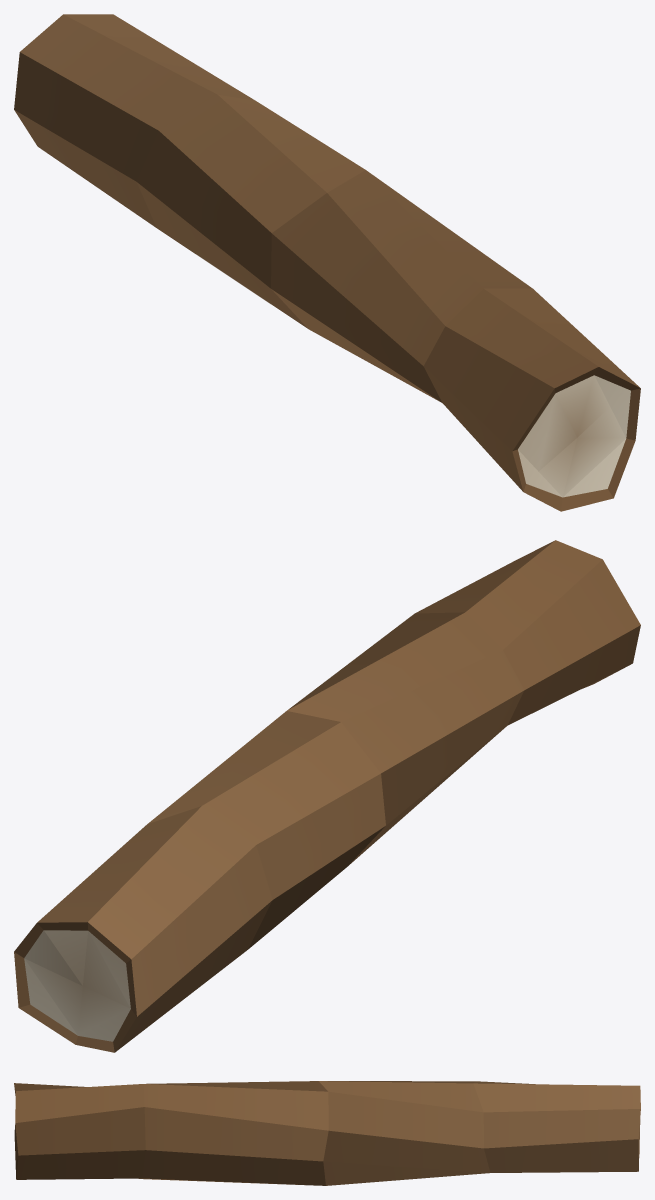
The model's file is Log_Straight_01.fbx.
3 views of the same model, one above another, from view 1: azimuth 30°, elevation 25°; view 2: azimuth 150°, elevation 25°; view 3: azimuth 270°, elevation 25° (orthographic). The views are drawn at different scales.
Parts seen in each view (by area): view 1: Log_Straight; view 2: Log_Straight; view 3: Log_Straight.
Part boxes in pixels (x1,y1,x2,y2): Log_Straight: (14,14,640,511); Log_Straight: (14,540,640,1052); Log_Straight: (14,1081,640,1185).
Bounding box in the file's own units: 0.6054 × 0.55 × 3.5.
